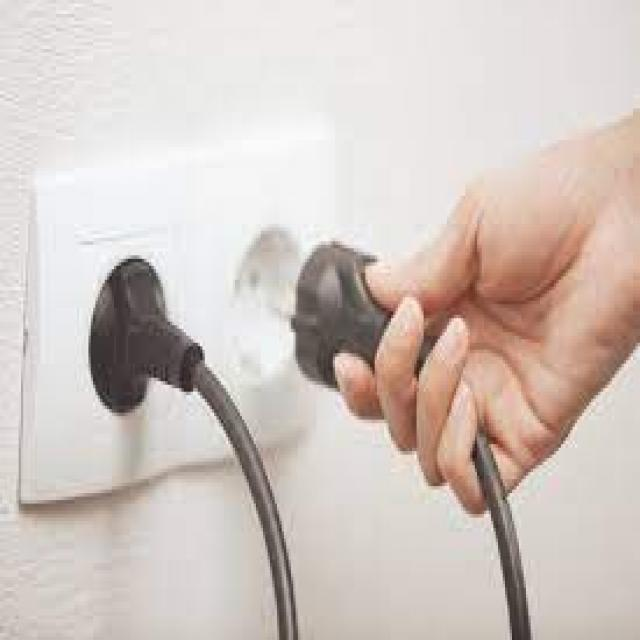typeb: (18, 103, 353, 553)
